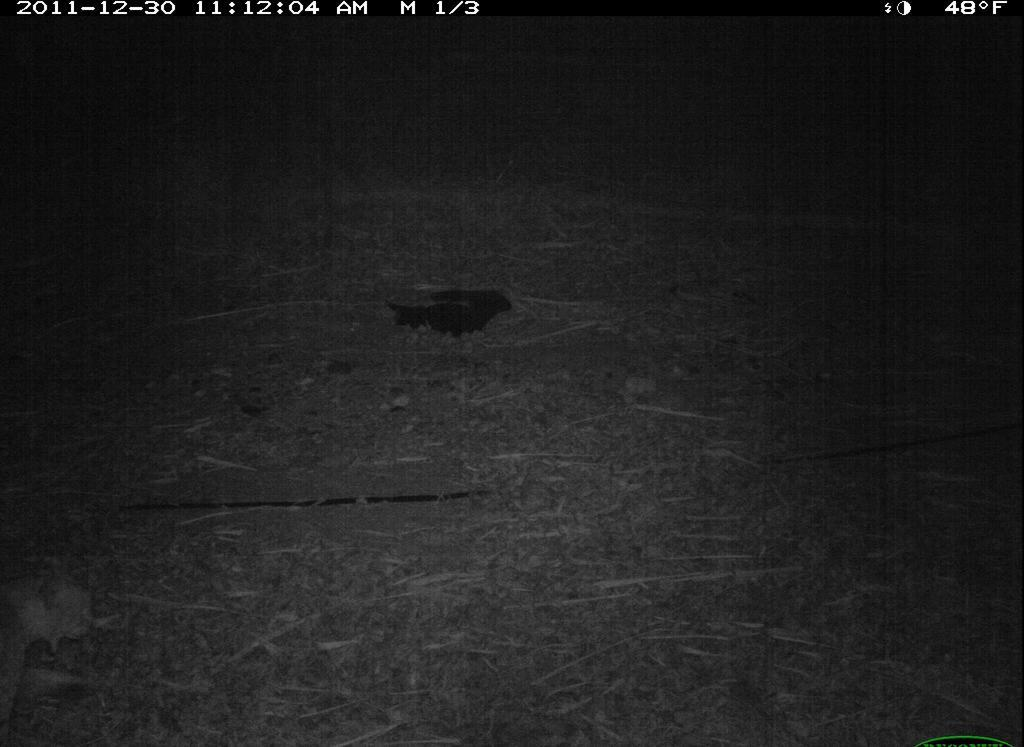bobcat: (2, 559, 105, 716)
